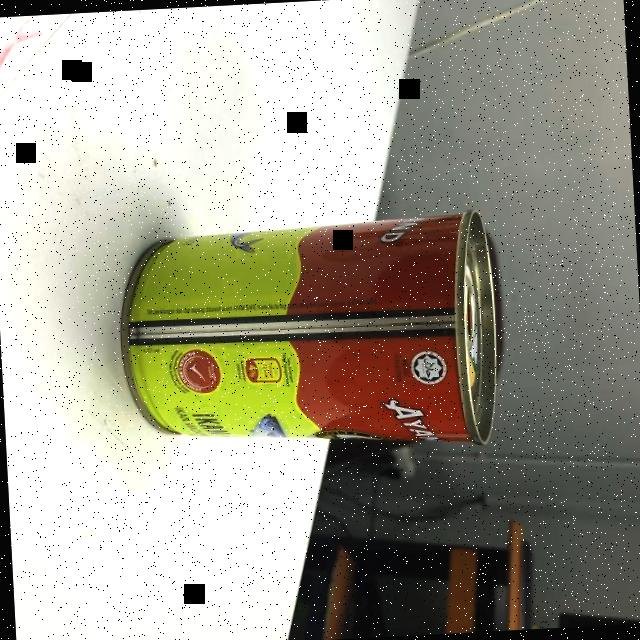can: (114, 205, 505, 462)
